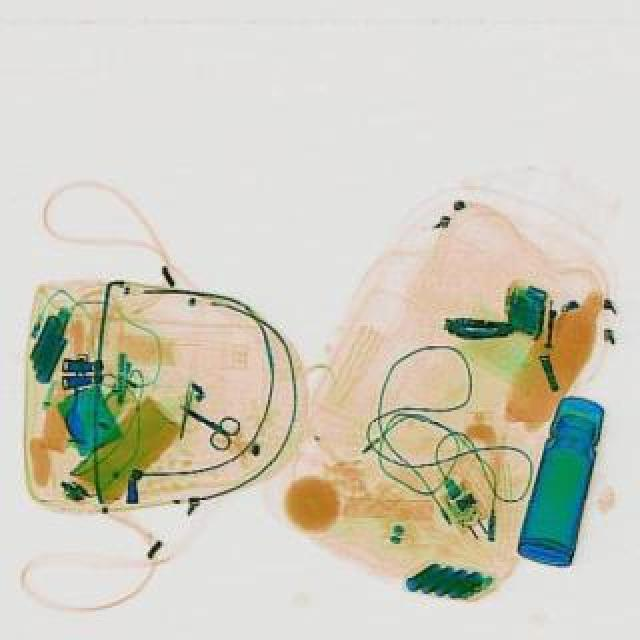pliers: (168, 392, 244, 452)
